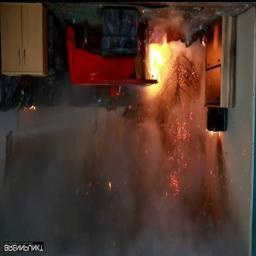fire: (137, 24, 200, 129)
